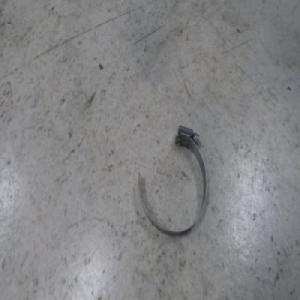AdjustableClamp: (139, 125, 208, 238)
